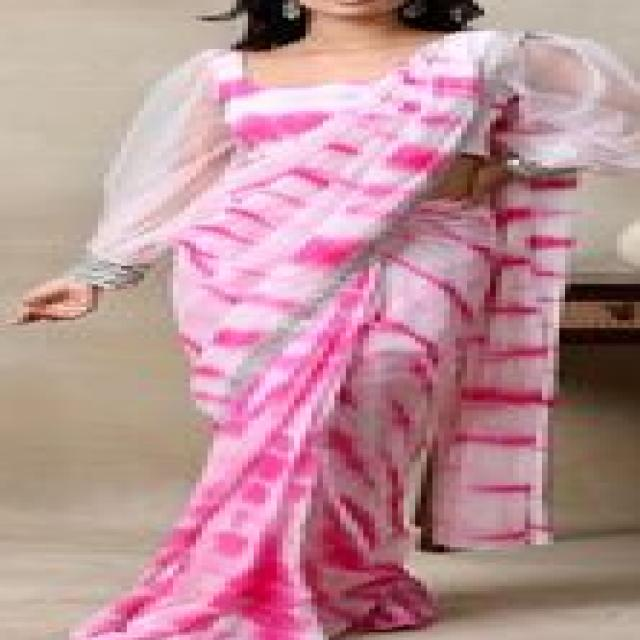Saree: (40, 26, 640, 640)
